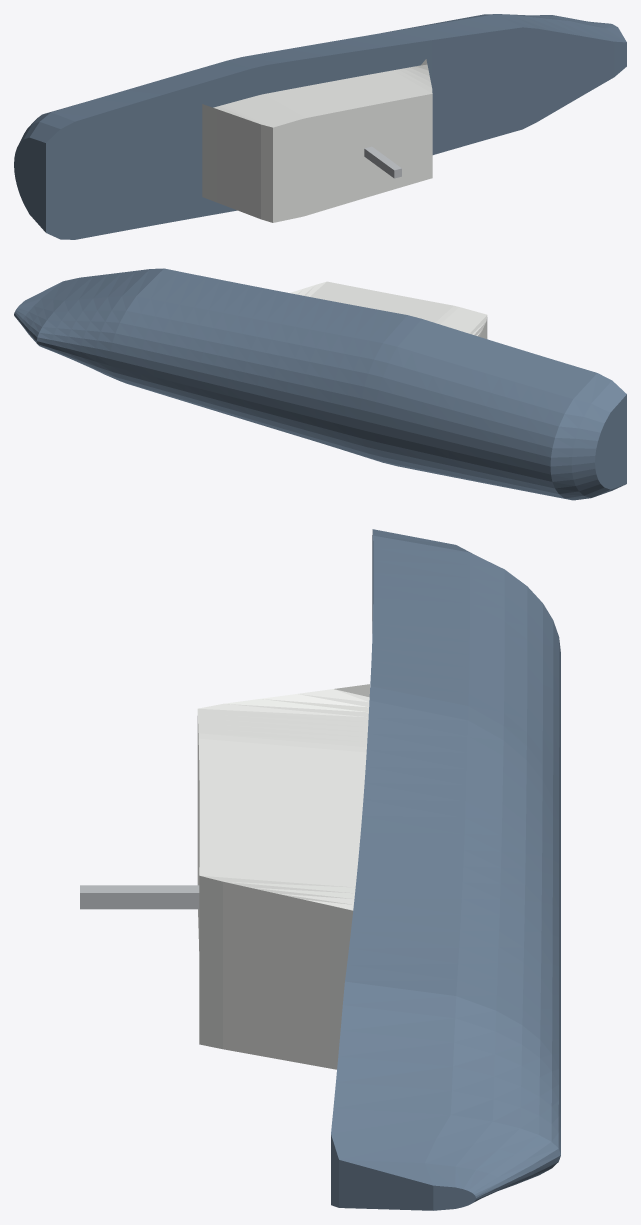
File: loft-pilot-boat-highside.glb
3 views of the same model, one above another, from view 1: azimuth 30°, elevation 25°; view 2: azimuth 150°, elevation 25°; view 3: azimuth 270°, elevation 25° (orthographic). The views are drawn at different scales.
Parts seen in each view (by area): view 1: pilot-boat-loft-highside; view 2: pilot-boat-loft-highside; view 3: pilot-boat-loft-highside.
Part boxes in pixels (left/top/right/bottom): pilot-boat-loft-highside: left=14, top=14, right=626, bottom=239; pilot-boat-loft-highside: left=14, top=268, right=626, bottom=500; pilot-boat-loft-highside: left=80, top=529, right=560, bottom=1210.
Size of the model in its own units: 1.81 by 0.4113 by 0.6425.
